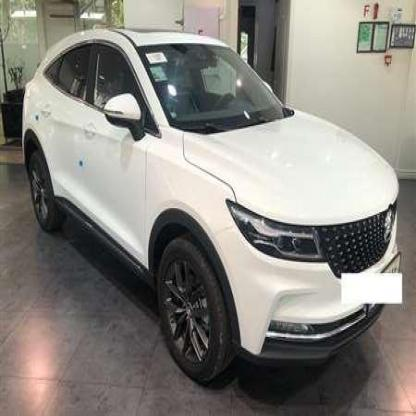Car: (19, 25, 406, 398)
